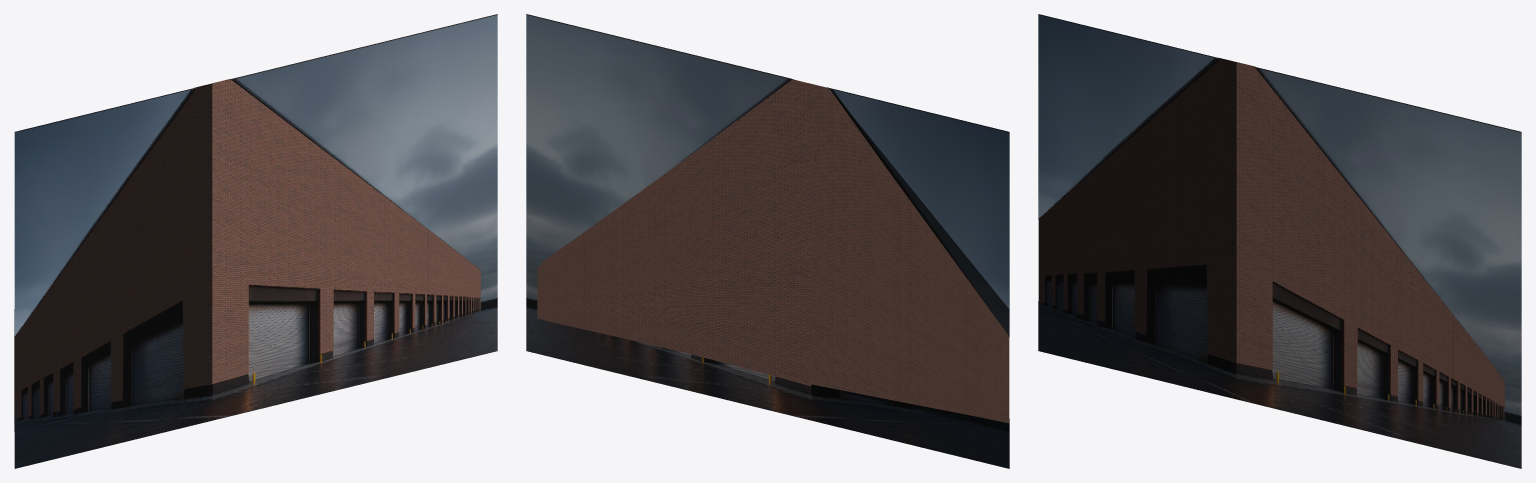
The model's file is place-lojistik.glb.
3 renders of one model, left to right at view 1: azimuth 30°, elevation 25°; view 2: azimuth 150°, elevation 25°; view 3: azimuth 330°, elevation 25°, orthographic.
Parts seen in each view (by area): view 1: Plane.003; view 2: Plane.003; view 3: Plane.003.
Boxes of the visible parts, bbox=[...] form: Plane.003: bbox=[14, 14, 497, 468]; Plane.003: bbox=[526, 14, 1009, 468]; Plane.003: bbox=[1038, 14, 1521, 468].
Bounding box in the file's own units: 1.5 × 1 × 0.00232.
3 materials, 2 textured.
